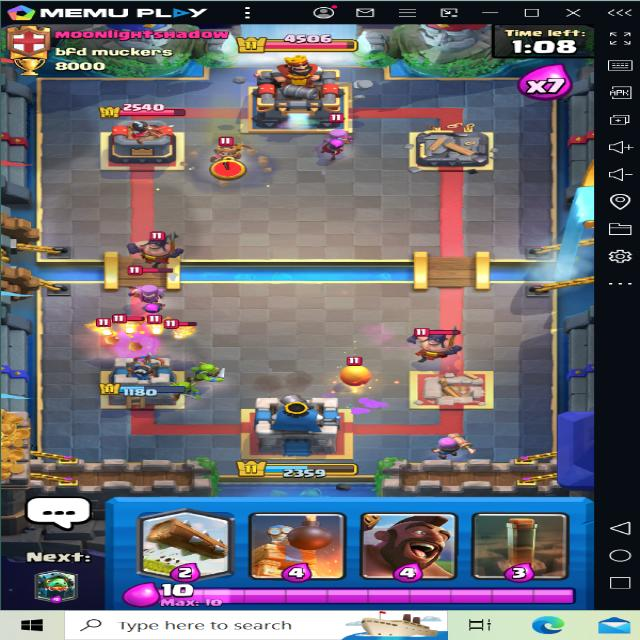Executioner: (126, 223, 199, 264), (406, 321, 463, 362)
Littleprince: (205, 133, 252, 173)
Motherwitch: (120, 267, 185, 316), (308, 113, 362, 164)
Pheonixegg: (334, 355, 374, 385)
